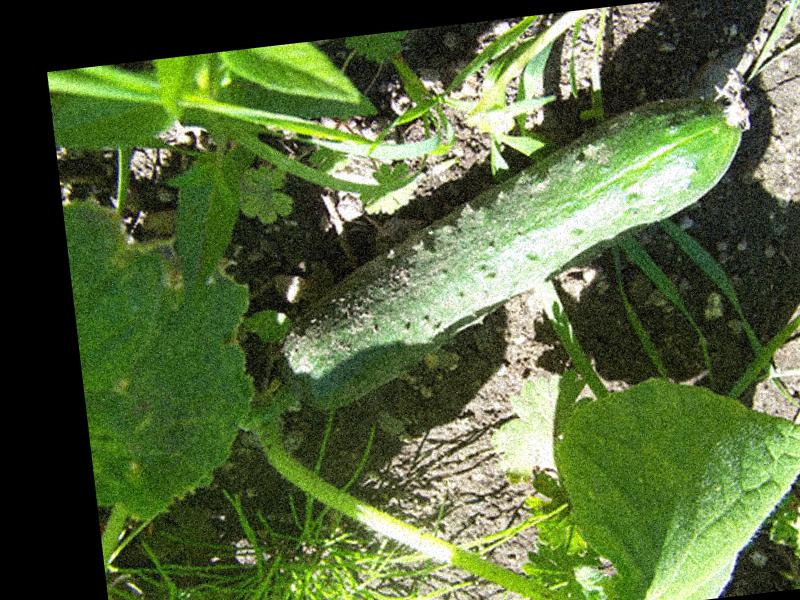Cucumber: (250, 88, 775, 416)
